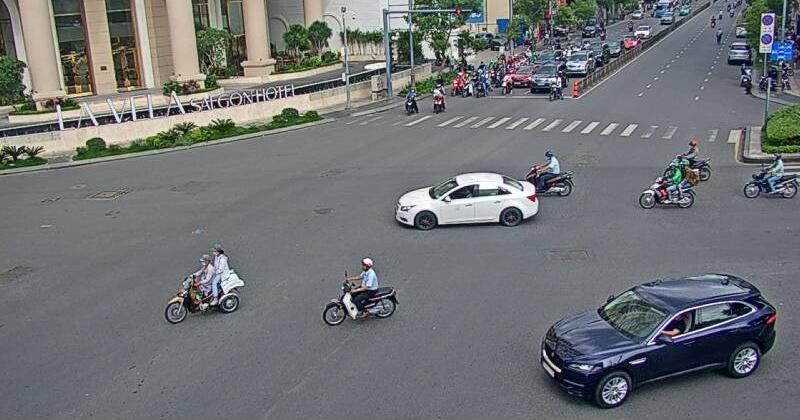xe hoi: (539, 273, 775, 410), (395, 172, 538, 228)
xe may: (162, 245, 242, 324), (322, 256, 398, 326), (742, 152, 800, 199), (637, 162, 694, 209), (528, 150, 573, 197), (665, 139, 712, 181)
